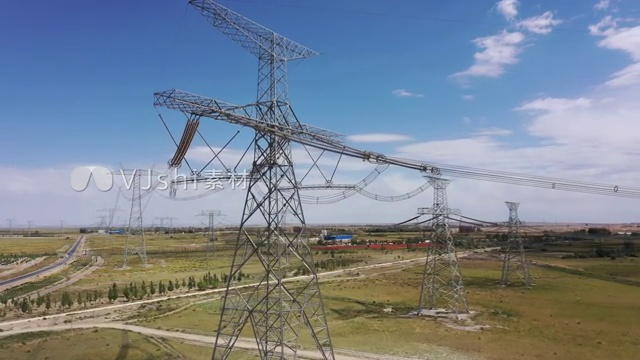tower_body: (148, 1, 367, 360), (411, 165, 479, 325), (500, 196, 536, 288)
tower_foot: (209, 267, 340, 360), (416, 279, 471, 322)
tower_head: (183, 1, 322, 64), (417, 170, 457, 190)
